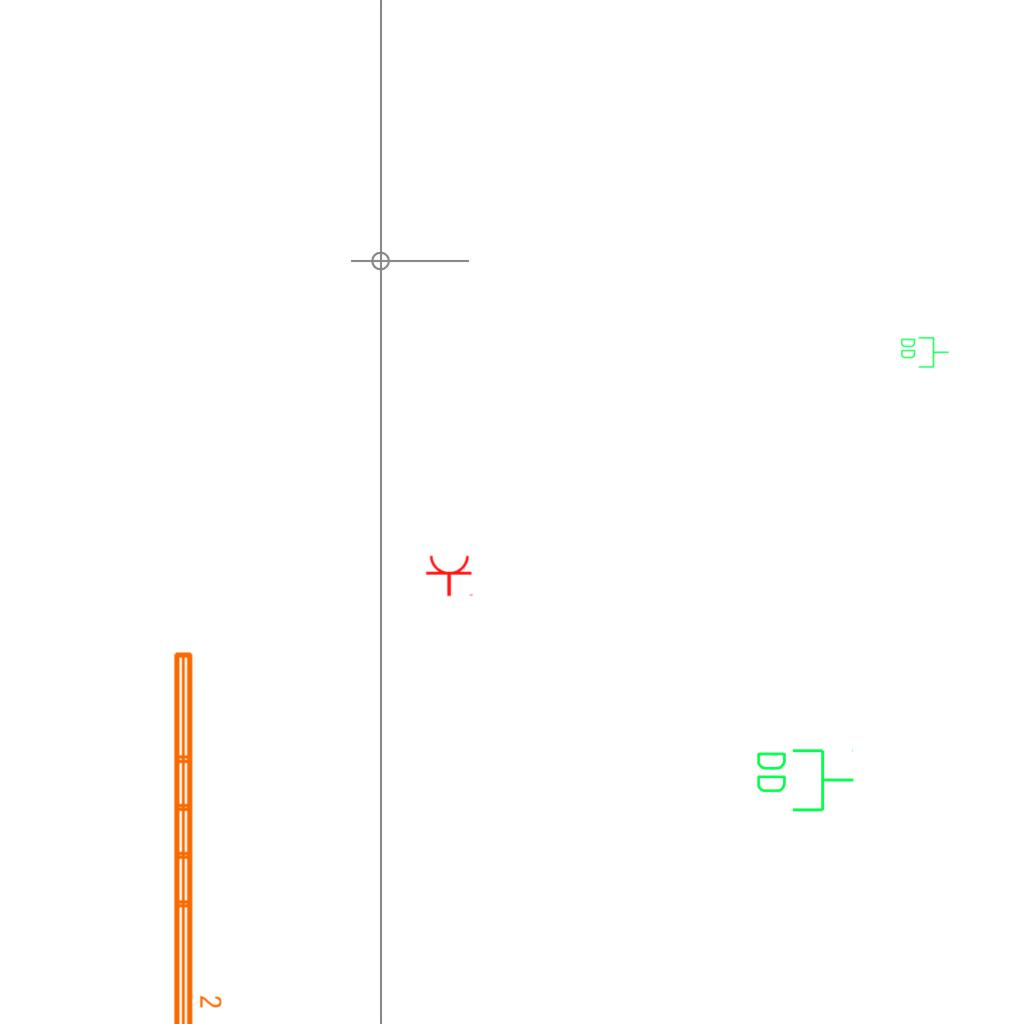Ambulanz_Pendelleuchte_LED: (168, 647, 224, 1024)
Datenanschluss_zweifach: (753, 745, 856, 814), (899, 335, 950, 369)
Schukosteckdose_einfach: (425, 554, 475, 597)
